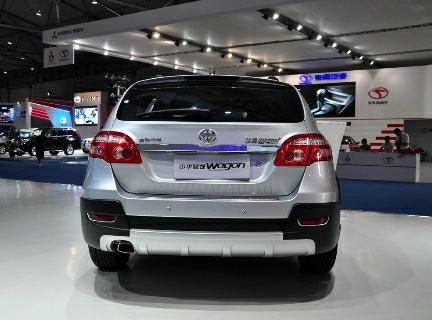car: (66, 68, 347, 298)
